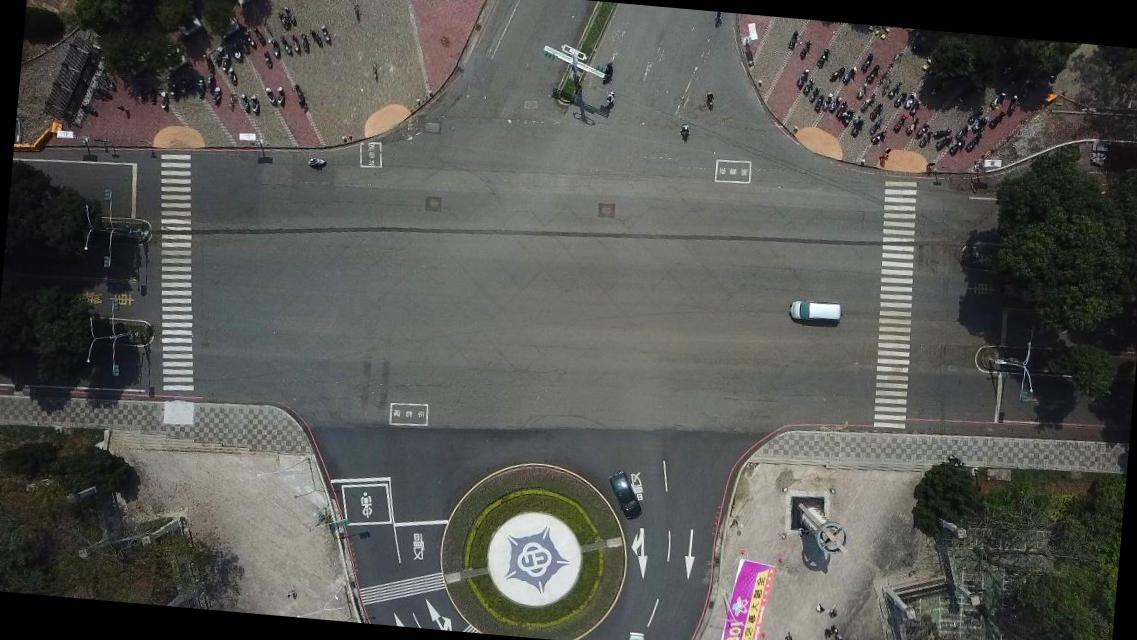vehicle: (603, 469, 644, 523), (784, 295, 841, 327), (626, 627, 647, 639)
